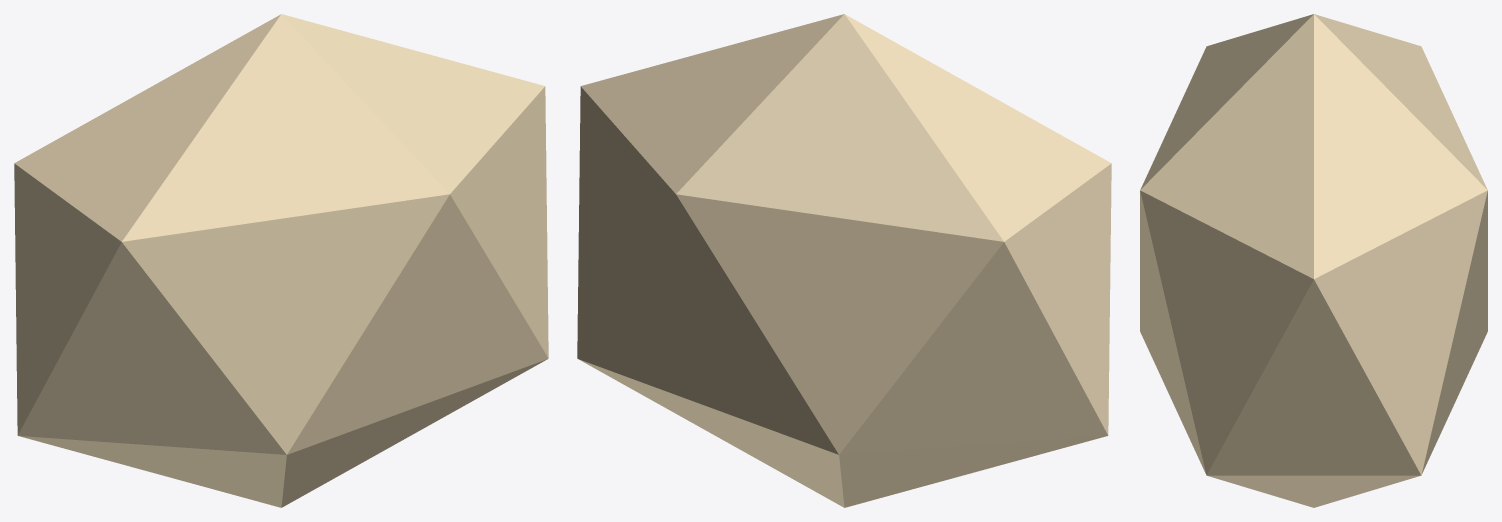
Rendered from rock_desert.glb.
3 views of the same model, side by side, from view 1: azimuth 30°, elevation 25°; view 2: azimuth 150°, elevation 25°; view 3: azimuth 270°, elevation 25° (orthographic).
Parts seen in each view (by area): view 1: rock_desert__rock; view 2: rock_desert__rock; view 3: rock_desert__rock.
Boxes of the visible parts, left/top/right/bottom form: rock_desert__rock: left=14, top=14, right=548, bottom=507; rock_desert__rock: left=577, top=14, right=1111, bottom=507; rock_desert__rock: left=1140, top=14, right=1487, bottom=507.
Bounding box in the file's own units: 8.94 × 8 × 5.1.
